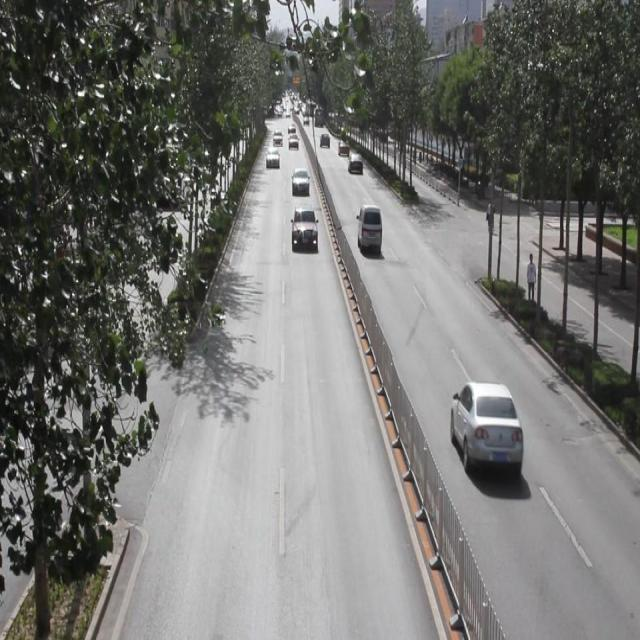car: (449, 383, 523, 475), (292, 206, 318, 248), (291, 167, 311, 194), (348, 151, 363, 175), (265, 145, 279, 169), (338, 140, 350, 158), (288, 132, 299, 151), (272, 130, 283, 149), (319, 130, 330, 147)
truck: (356, 202, 382, 254)
